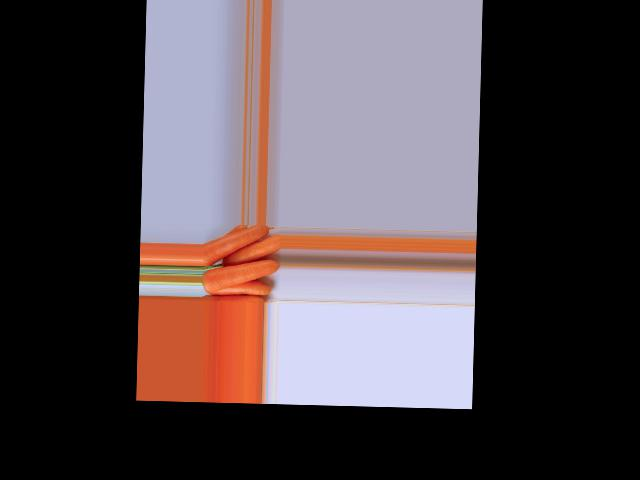carrot: (204, 280, 273, 301)
